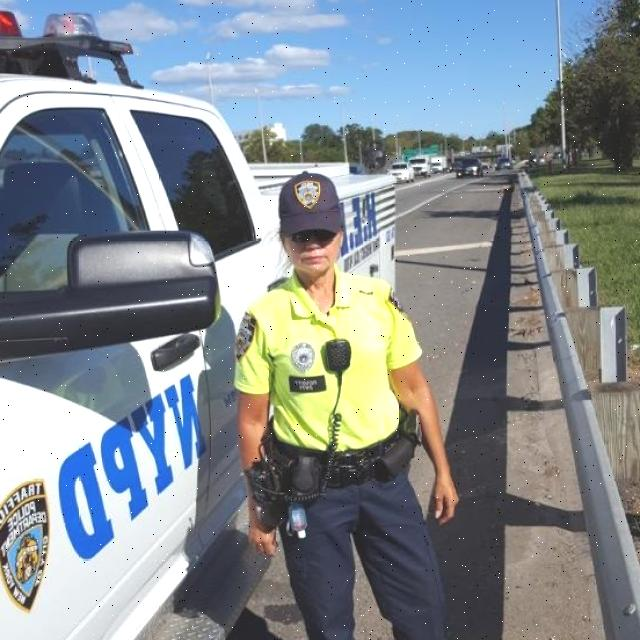police: (219, 173, 482, 640)
